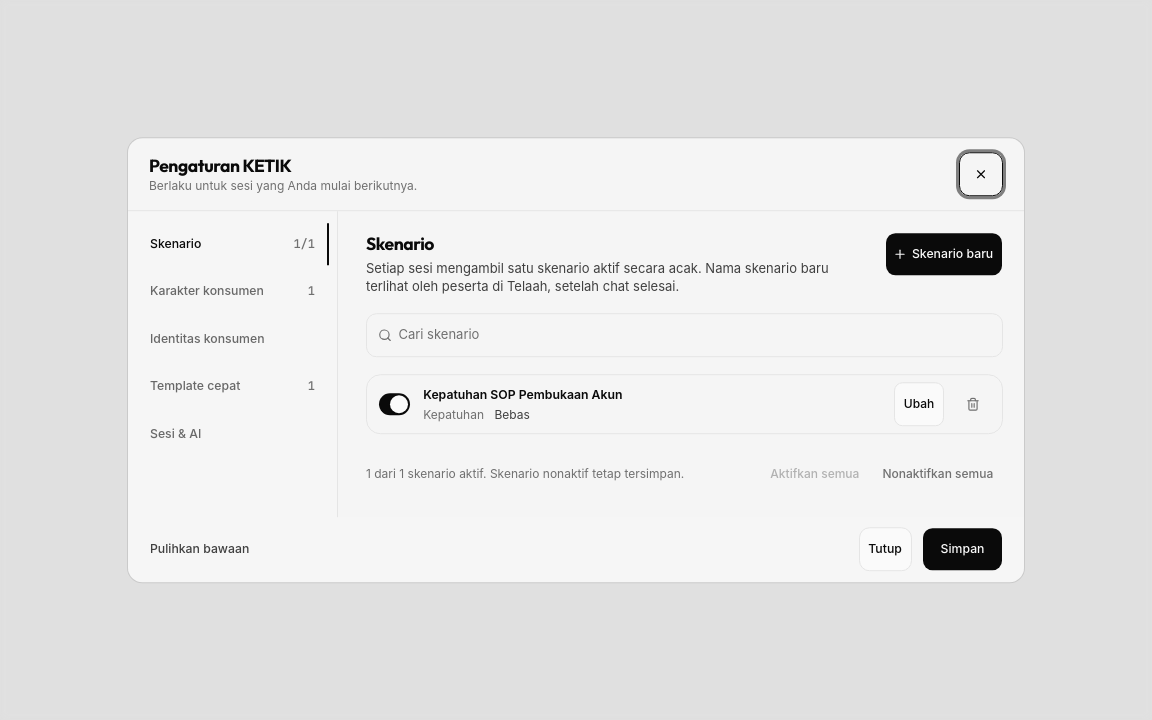
Test case: KETIK SettingsModal Characterization Tests › does not truncate a loaded over-limit KETIK scenario description
Click the tab "Skenario 1/1": coordinates (232, 244) x1=138 y1=222 x2=326 y2=266
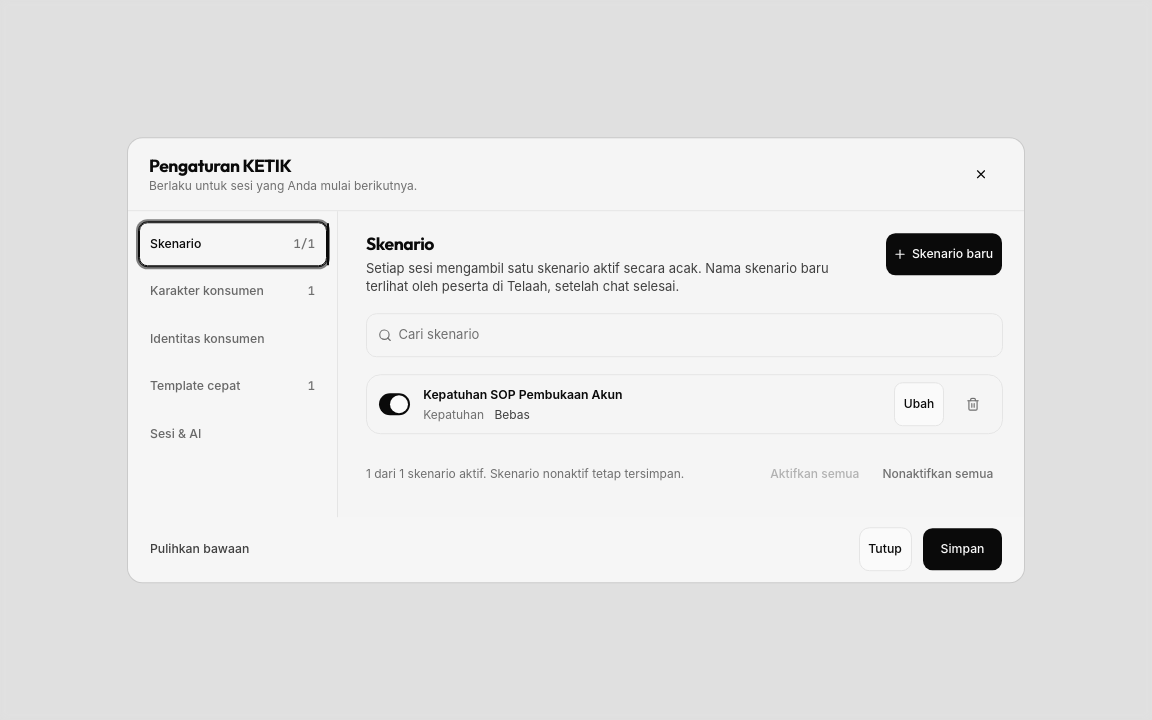
Click the button "Ubah": coordinates (919, 404) x1=894 y1=382 x2=944 y2=426
(page scrolled)
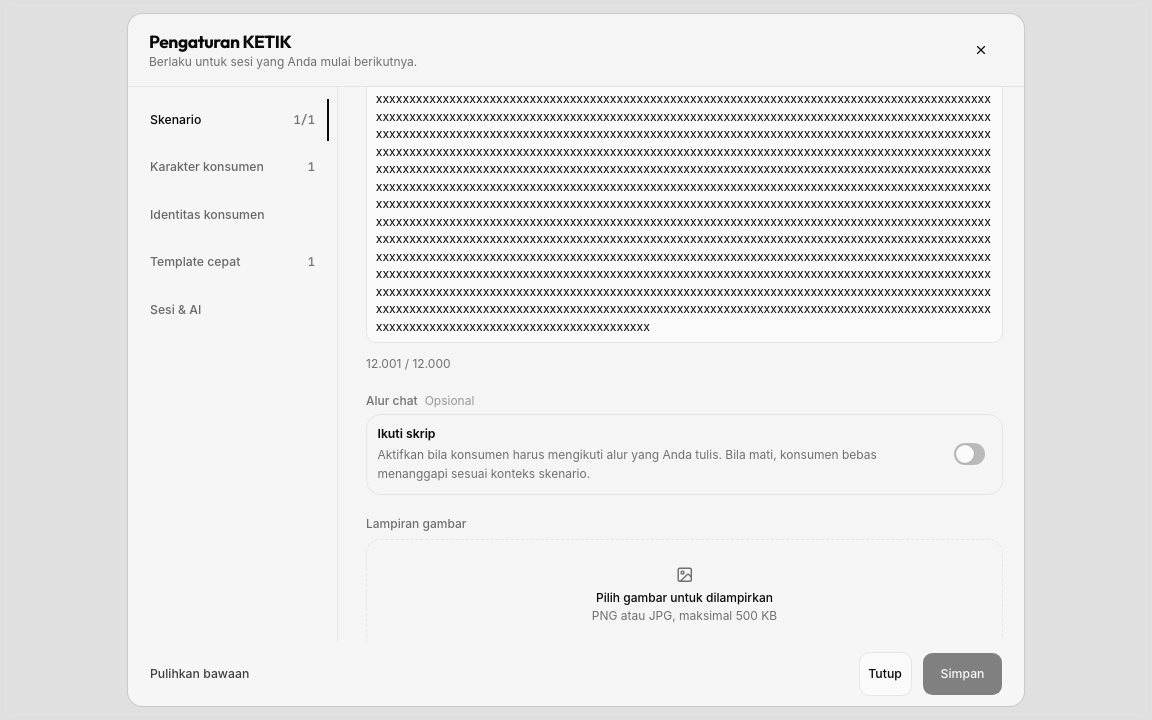
Expected: the text "12.001 / 12.000" is shown, x1=366 y1=356 x2=450 y2=370
